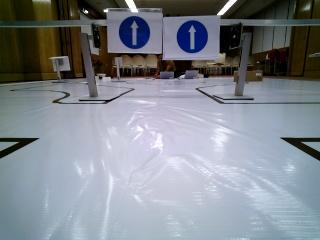straight: (107, 9, 164, 54), (169, 17, 219, 60)
